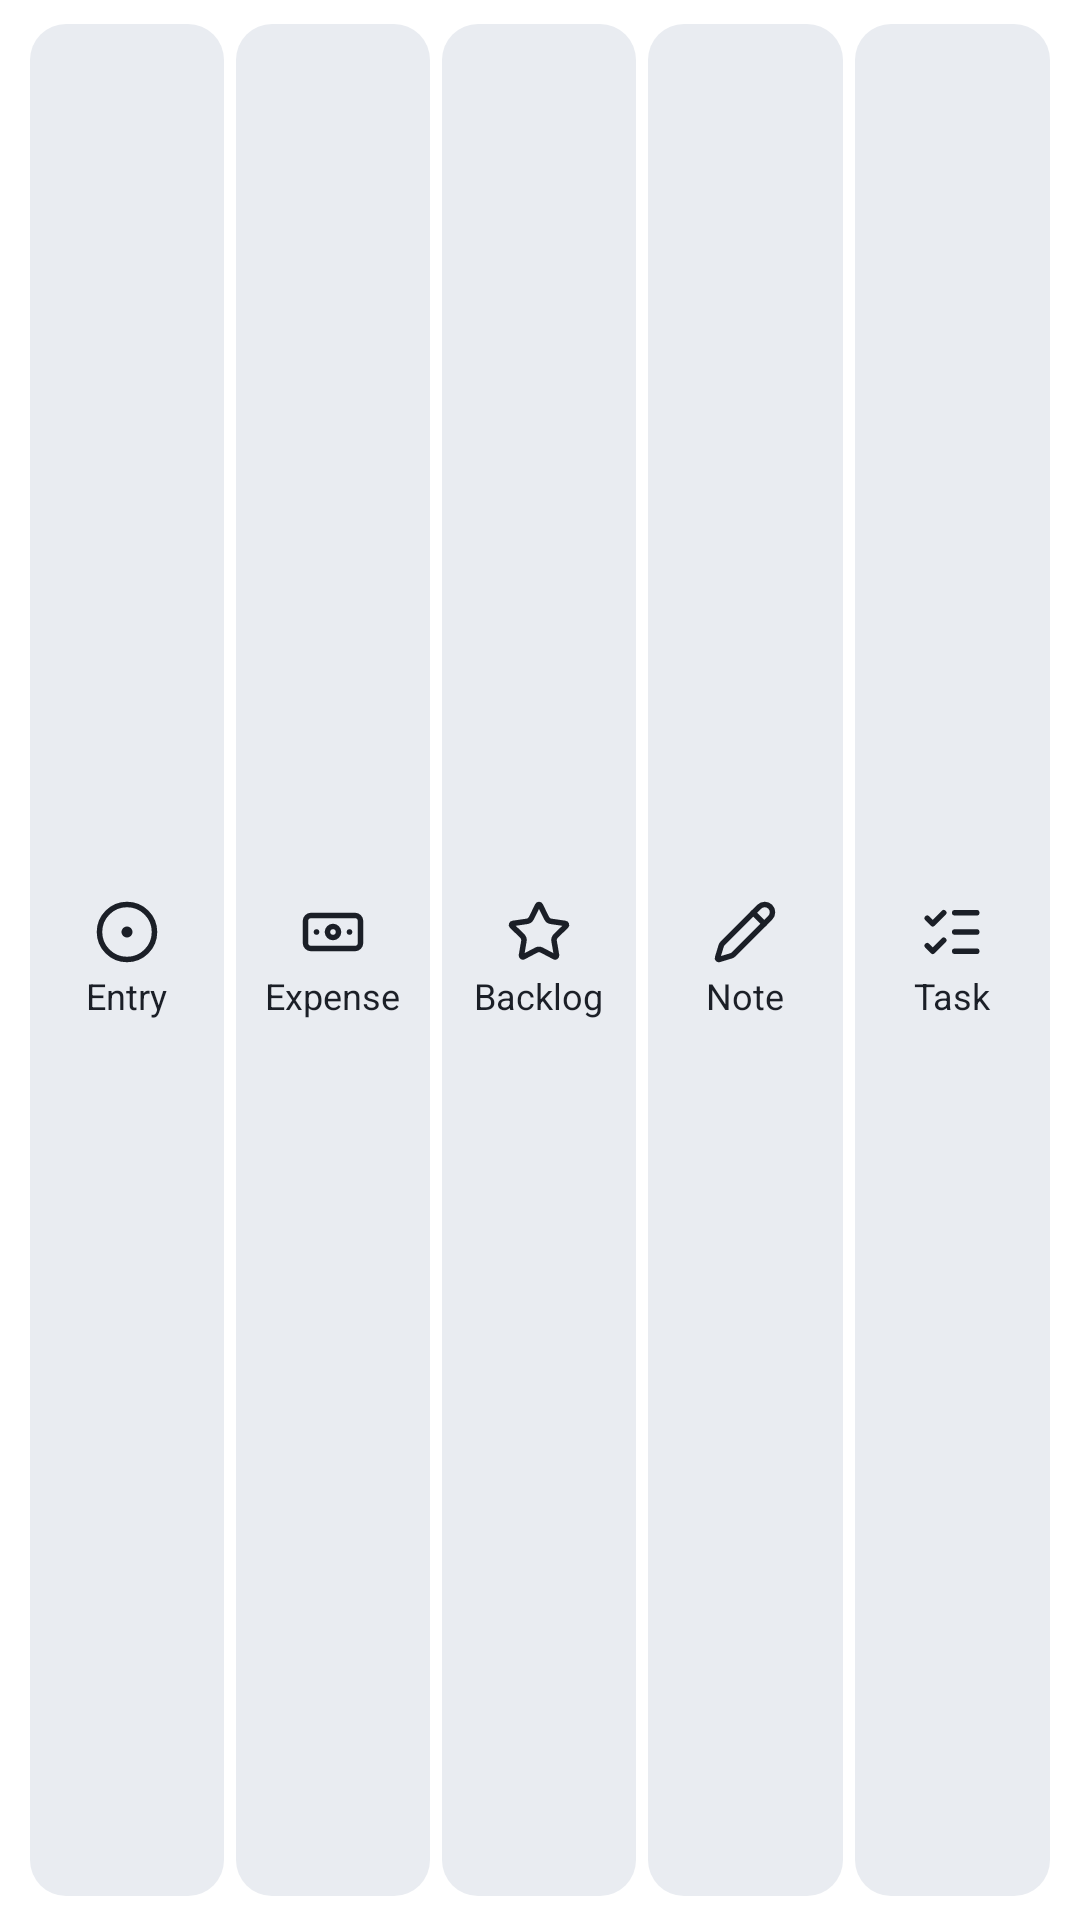

Icon bounding boxes for this 1080px×1920px phone screenshot, format (x1, y1, x2, y2):
widget banknote: (302, 912, 364, 952)
widget circle dot: (96, 901, 158, 963)
widget list checks: (924, 909, 980, 955)
widget pencil: (714, 901, 776, 963)
widget star: (508, 901, 570, 960)
